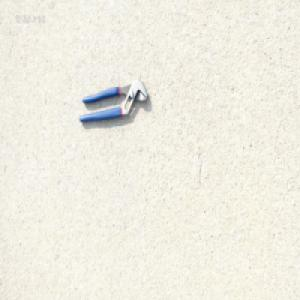Pliers: (77, 77, 148, 124)
